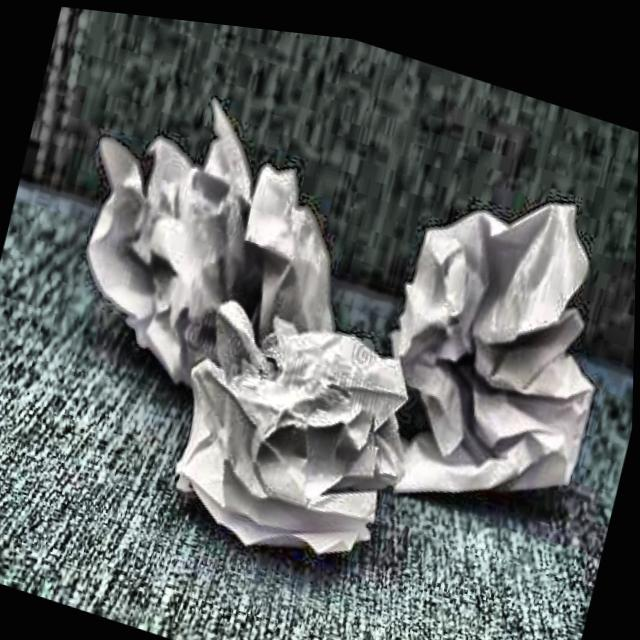Paper: (40, 49, 394, 459), (342, 131, 638, 595), (151, 259, 438, 593)
